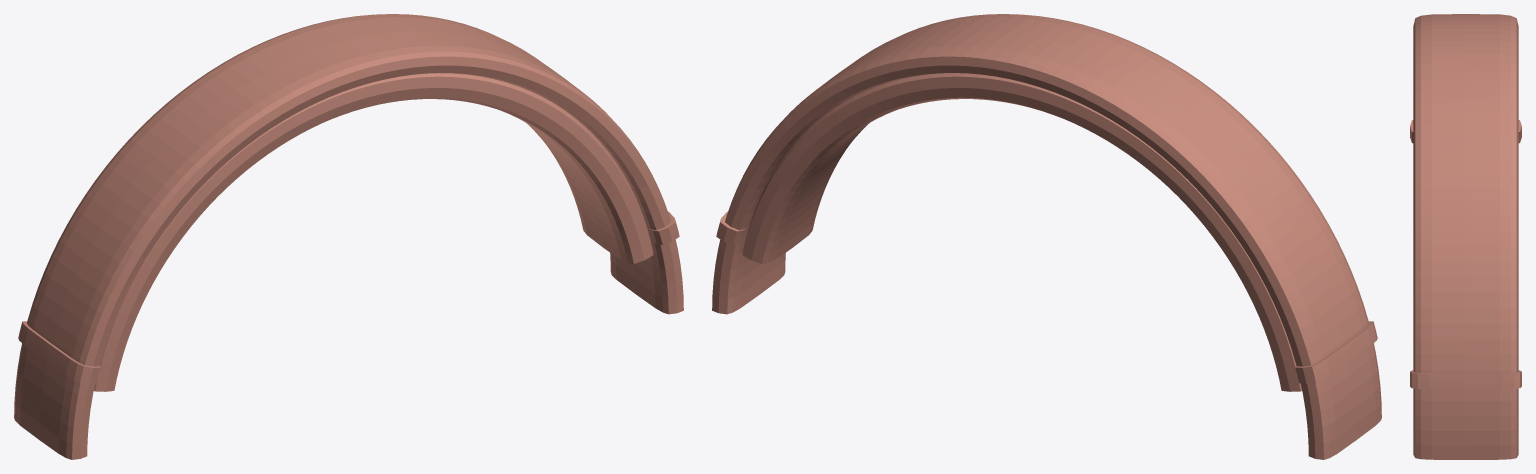
The picture shows the model from 3 angles, left to right: view 1: azimuth 30°, elevation 25°; view 2: azimuth 150°, elevation 25°; view 3: azimuth 270°, elevation 25°; orthographic projection. The views are drawn at different scales.
Visible parts, largest first — view 1: geometry_0; view 2: geometry_0; view 3: geometry_0.
Part boxes in pixels (x1,y1,x2,y2): geometry_0: (14, 14, 683, 459); geometry_0: (712, 14, 1381, 459); geometry_0: (1410, 14, 1521, 459).
Size of the model in its own units: 185 by 92.47 by 33.
